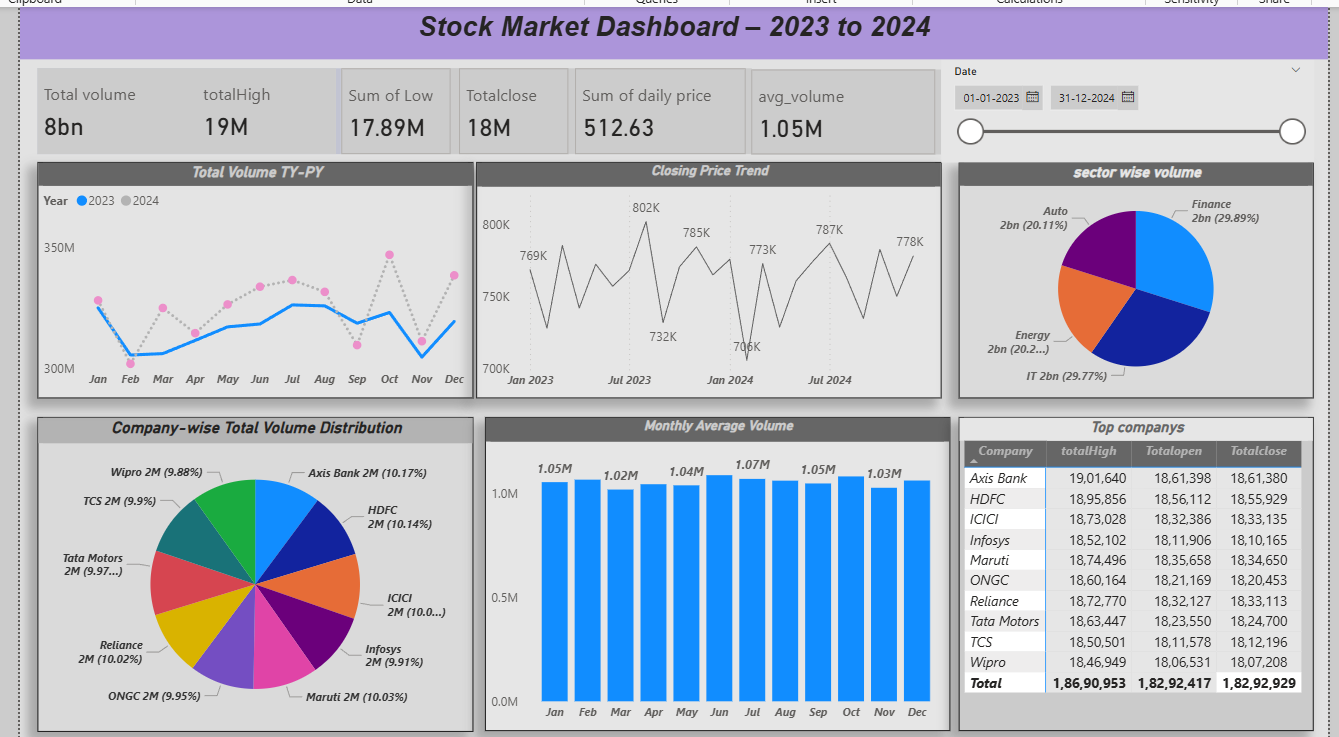

Layout of this report page (visuals, bound fields, positions):
{"tool":"powerbi","page":{"name":"Dashboard","canvas":[1280,720],"ordinal":0},"visuals":[{"type":"pieChart","title":"Company-wise Total Volume Distribution","fields":{"Y":["StockMarketData_2023_2024.total volume"],"Series":["StockMarketData_2023_2024.Company"]},"box":[17.1,401.1,426.8,308.2],"z":0},{"type":"lineChart","title":"Closing Price Trend","fields":{"Category":["StockMarketData_2023_2024.Date.Variation.Date Hierarchy.Year","StockMarketData_2023_2024.Date.Variation.Date Hierarchy.Quarter","StockMarketData_2023_2024.Date.Variation.Date Hierarchy.Month"],"Y":["Sum(StockMarketData_2023_2024.Close)"]},"box":[446.3,151.6,454.9,231.1],"z":1000},{"type":"clusteredColumnChart","title":"Monthly Average Volume","fields":{"Y":["StockMarketData_2023_2024.avg_volume"],"Category":["StockMarketData_2023_2024.MonthName"]},"box":[454.9,401.1,454.9,306.9],"z":2000},{"type":"lineChart","title":"Total Volume TY-PY","fields":{"Y":["Sum(StockMarketData_2023_2024.Volume)"],"Series":["StockMarketData_2023_2024.Date.Variation.Date Hierarchy.Year"],"Category":["StockMarketData_2023_2024.Date.Variation.Date Hierarchy.Year","StockMarketData_2023_2024.MonthName"]},"box":[17.1,151.6,426.8,231.1],"z":3000},{"type":"pieChart","title":"sector wise volume","fields":{"Category":["StockMarketData_2023_2024.Sector"],"Y":["Sum(StockMarketData_2023_2024.Volume)"]},"box":[918.3,151.6,347.3,231.1],"z":4000},{"type":"pivotTable","title":"Top companys","fields":{"Rows":["StockMarketData_2023_2024.Company"],"Values":["StockMarketData_2023_2024.totalHigh","StockMarketData_2023_2024.Totalopen","StockMarketData_2023_2024.Totalclose"]},"box":[918.3,401.1,347.3,306.9],"z":5000},{"type":"cardVisual","fields":{"Data":["StockMarketData_2023_2024.Total volume","StockMarketData_2023_2024.totalHigh"]},"box":[17.1,59.9,297.1,84.4],"z":6000},{"type":"cardVisual","fields":{"Data":["Sum(StockMarketData_2023_2024.Low)","StockMarketData_2023_2024.Totalclose"]},"box":[314.3,59.9,228.7,84.4],"z":7000},{"type":"cardVisual","fields":{"Data":["Sum(StockMarketData_2023_2024.daily price)"]},"box":[542.9,59.9,172.4,84.4],"z":8000},{"type":"slicer","fields":{"Values":["StockMarketData_2023_2024.Date"]},"box":[901.2,51.4,364.4,100.3],"z":9000},{"type":"cardVisual","fields":{"Data":["StockMarketData_2023_2024.avg_volume"]},"box":[715.4,61.1,185.9,83.2],"z":10000},{"type":"textbox","box":[0,0,1280.3,51.4],"z":11000}]}

Visuals, with their boxes in screenshot pixels (x1, y1, x2, y2):
"Company-wise Total Volume Distribution" pieChart: crop(21, 419, 467, 736)
"Closing Price Trend" lineChart: crop(470, 158, 945, 400)
"Monthly Average Volume" clusteredColumnChart: crop(479, 419, 954, 736)
"Total Volume TY-PY" lineChart: crop(21, 158, 467, 400)
"sector wise volume" pieChart: crop(963, 158, 1326, 400)
"Top companys" pivotTable: crop(963, 419, 1326, 736)
cardVisual - StockMarketData_2023_2024.Total volume x StockMarketData_2023_2024.totalHigh: crop(21, 63, 332, 151)
cardVisual - Sum(StockMarketData_2023_2024.Low) x StockMarketData_2023_2024.Totalclose: crop(332, 63, 571, 151)
cardVisual - Sum(StockMarketData_2023_2024.daily price): crop(571, 63, 751, 151)
slicer - StockMarketData_2023_2024.Date: crop(945, 54, 1326, 158)
cardVisual - StockMarketData_2023_2024.avg_volume: crop(751, 64, 945, 151)
textbox: crop(3, 0, 1338, 54)
